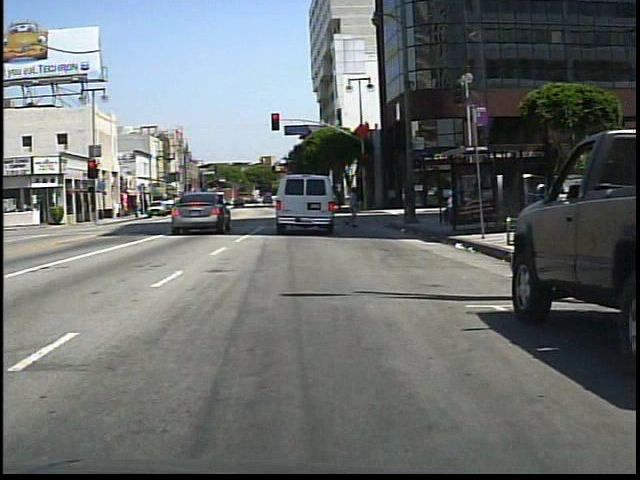person: (342, 183, 366, 230), (185, 192, 200, 218)
